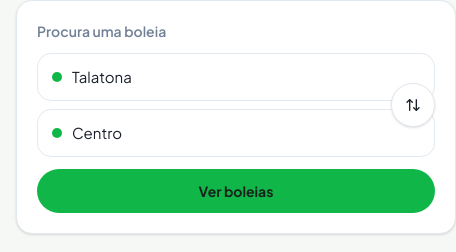
Test: LandingHeroSearchCard › troca origem e destino
What coordinates should you click on to do the following:
click the button named "Trocar origem e destino"
I would click on:
 (413, 105)
Its box is [391,83,435,127].
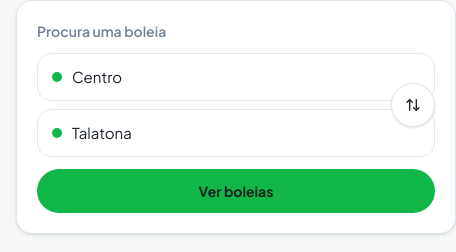
Check: the 1st field showing "Centro" is shown, box [72,66,378,88]
Check: the 2nd field showing "Talatona" is shown, box [72,122,378,144]
